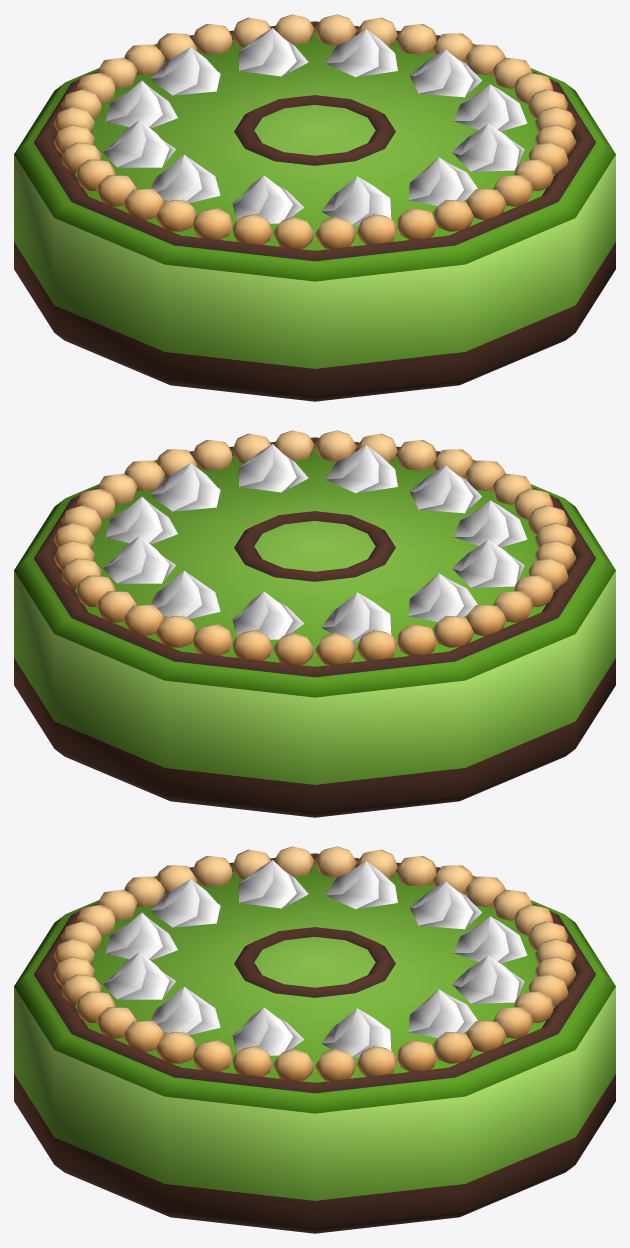
The model's file is m_MatchaCake01.fbx.
3 renders of one model, top to bottom at view 1: azimuth 30°, elevation 25°; view 2: azimuth 150°, elevation 25°; view 3: azimuth 270°, elevation 25°, orthographic.
Parts seen in each view (by area): view 1: m_MatchaCake01; view 2: m_MatchaCake01; view 3: m_MatchaCake01.
Boxes of the visible parts, x1,y1,x2,y2 form: m_MatchaCake01: (14,14,615,401); m_MatchaCake01: (14,430,615,817); m_MatchaCake01: (14,846,615,1233).
Size of the model in its own units: 28 by 9.1 by 28.
